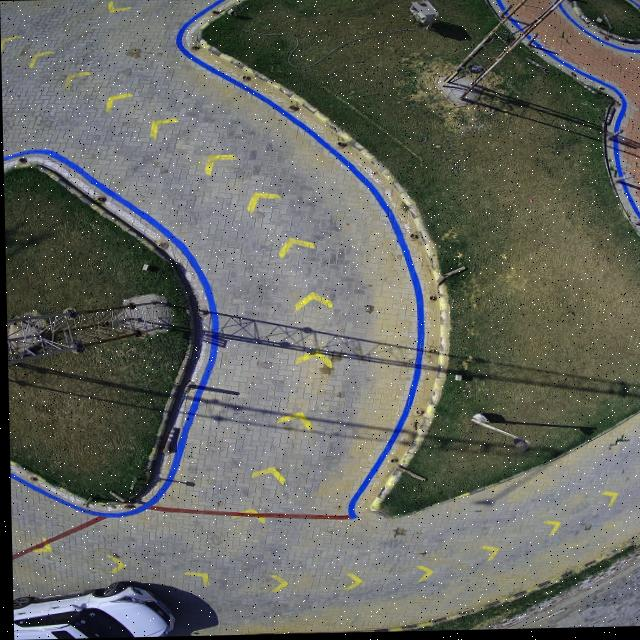car: (11, 579, 169, 640)
